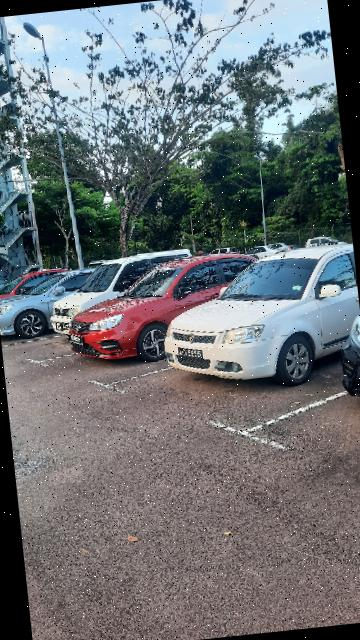License_Plate: (175, 340, 211, 366), (66, 331, 89, 347), (55, 320, 68, 333)
car: (155, 242, 360, 400), (62, 250, 269, 372), (44, 242, 233, 341)
